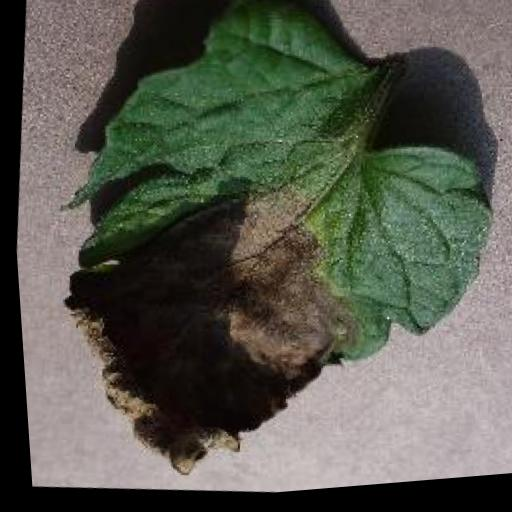Late Blight: (19, 0, 512, 511)
